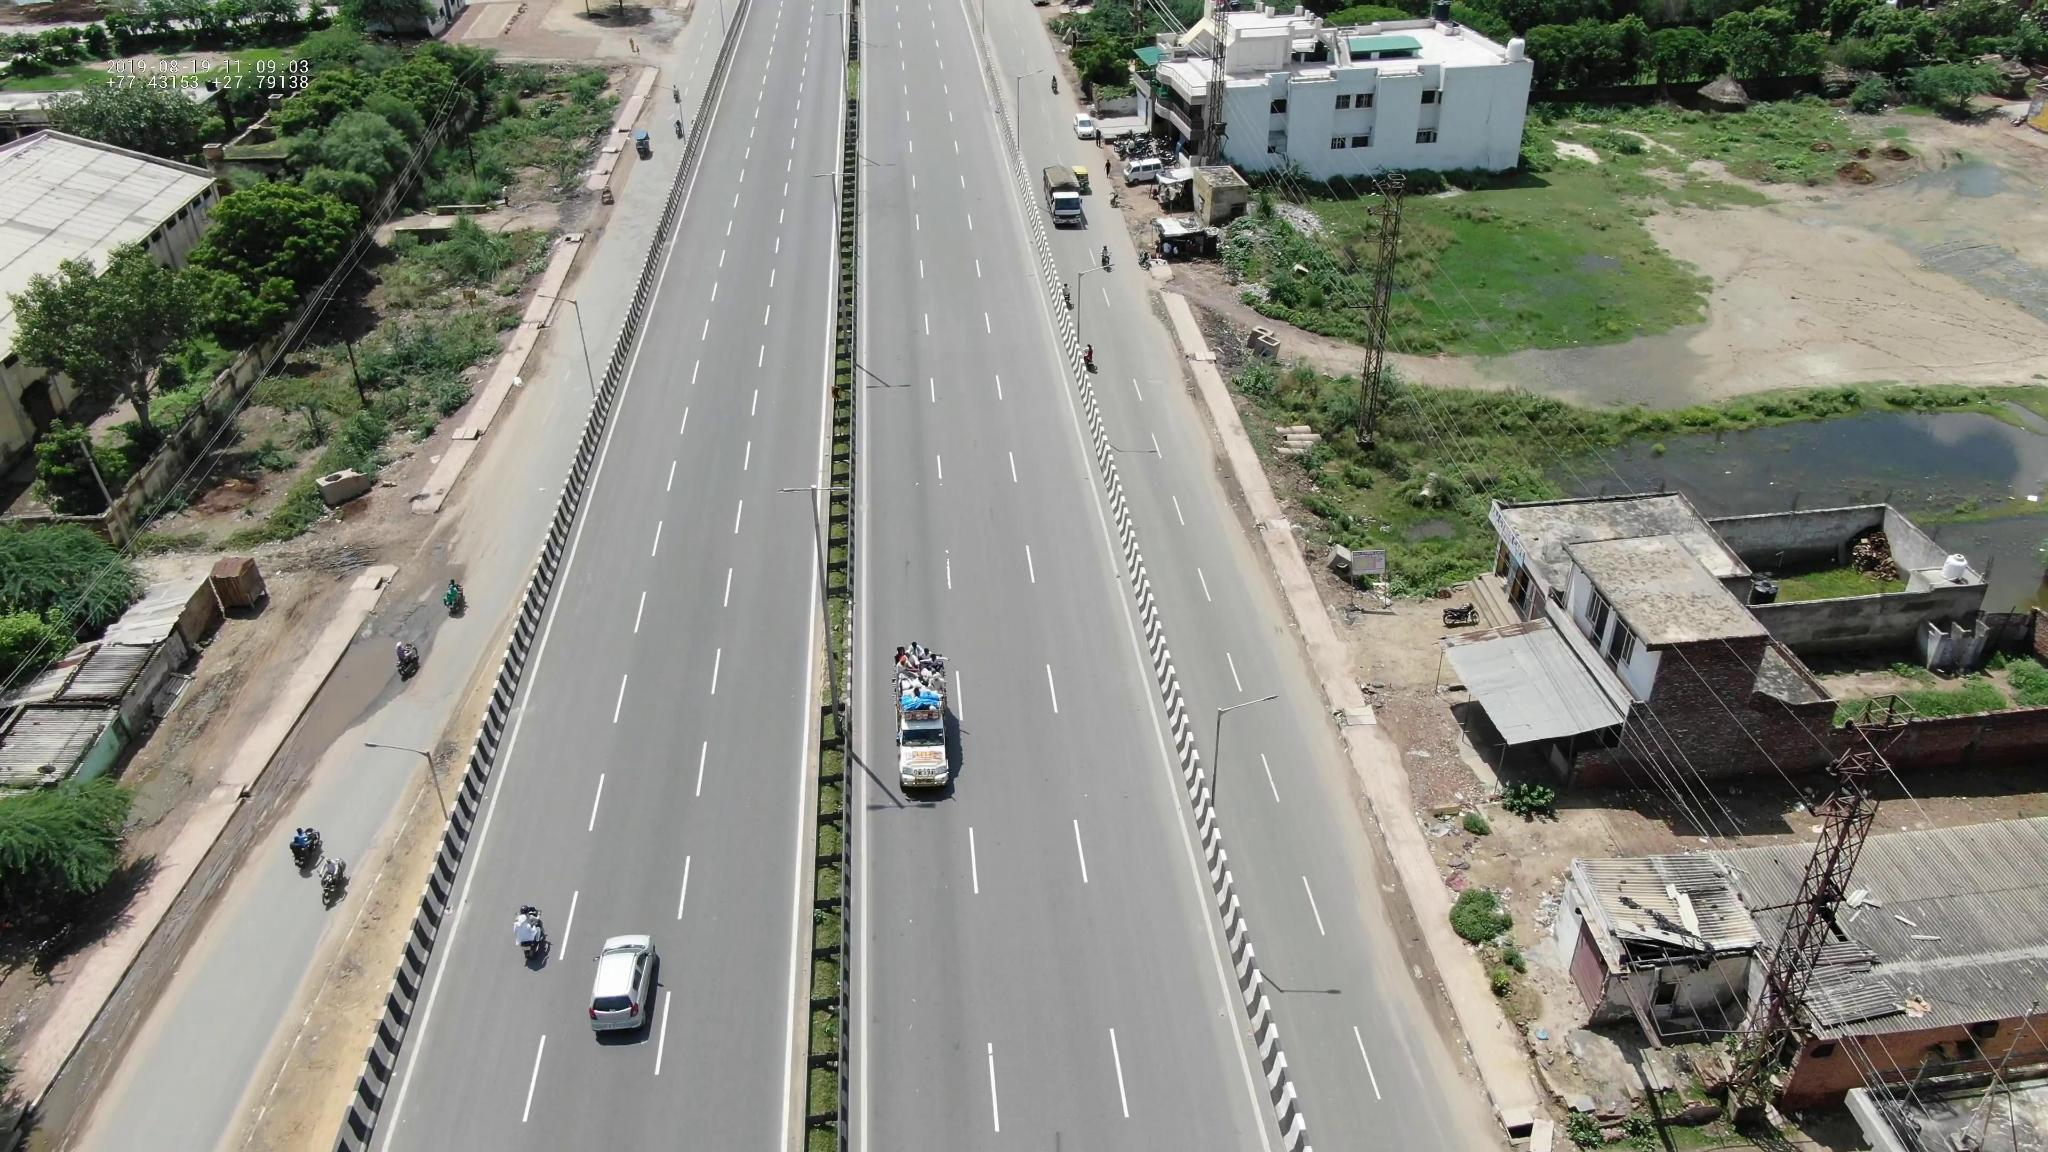Waterlogging: (291, 636, 397, 750)
